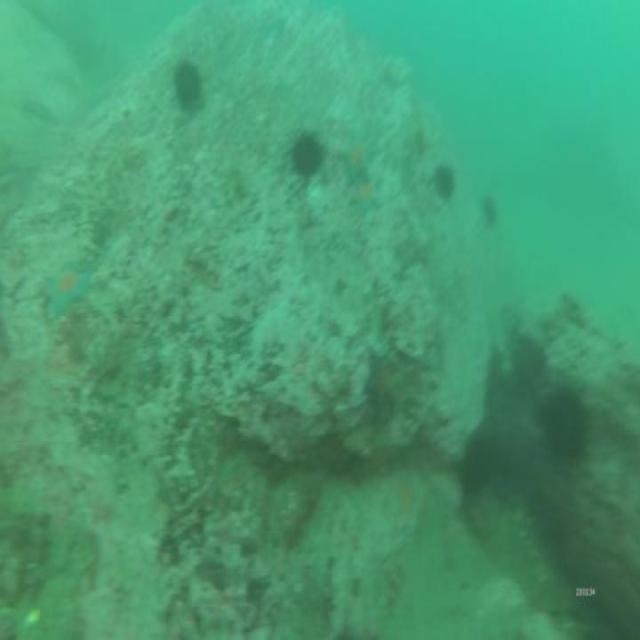echinus: (544, 385, 586, 460), (172, 63, 202, 109), (293, 136, 322, 177), (435, 164, 453, 196)
holothurian: (461, 436, 496, 496), (511, 332, 546, 387)
starfish: (42, 264, 92, 306), (369, 357, 401, 409), (342, 134, 372, 178), (350, 174, 387, 208)
